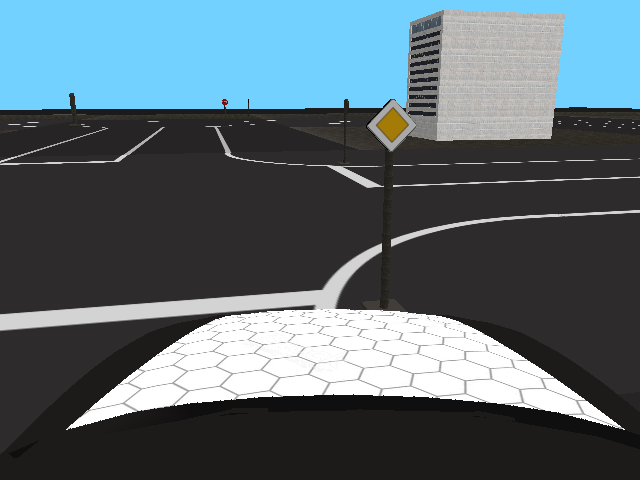priority: (366, 99, 417, 152)
